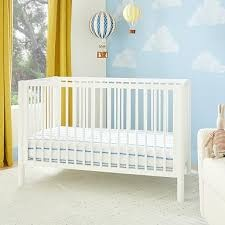crib: (18, 76, 191, 203)
